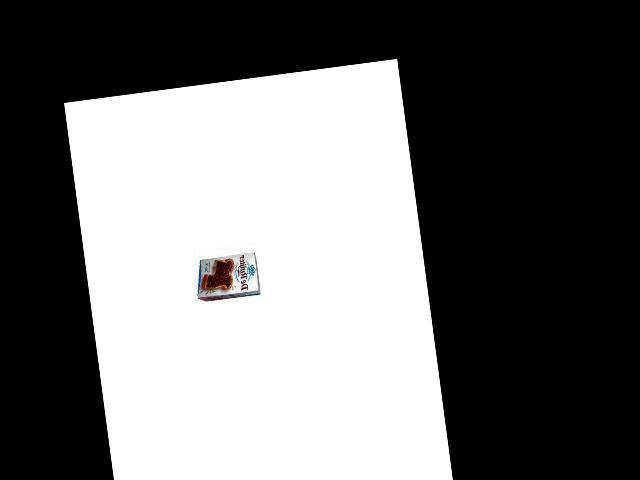chocolate: (193, 246, 265, 308)
